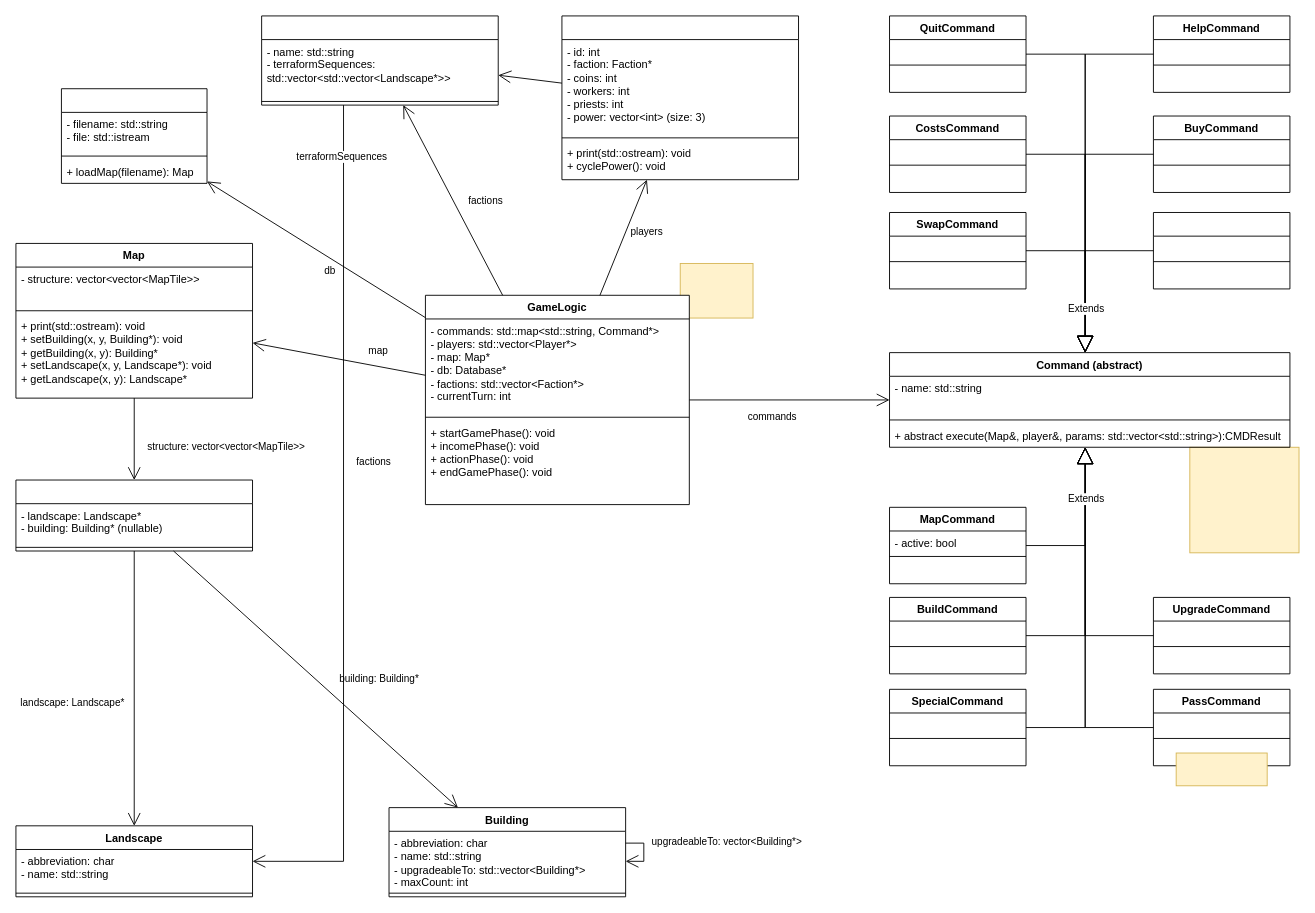
This 1315x913 diagram has some shape labels left out. Here are the shapes that lost their labels. From the top down, the box of each, then its label:
(261, 15, 498, 105): Faction
(561, 15, 799, 180): Player
(61, 88, 207, 183): Database
(1153, 212, 1290, 289): TerraformCommand
(679, 263, 753, 318): return codes as enums
(15, 479, 253, 551): MapTile
(1189, 446, 1299, 553): CMDResult: *QUIT * NEXT_PLAYER * SUCCESS * FAILED * MEM_ERROR?
(1175, 752, 1267, 786): should return NEXT_PLAYER
